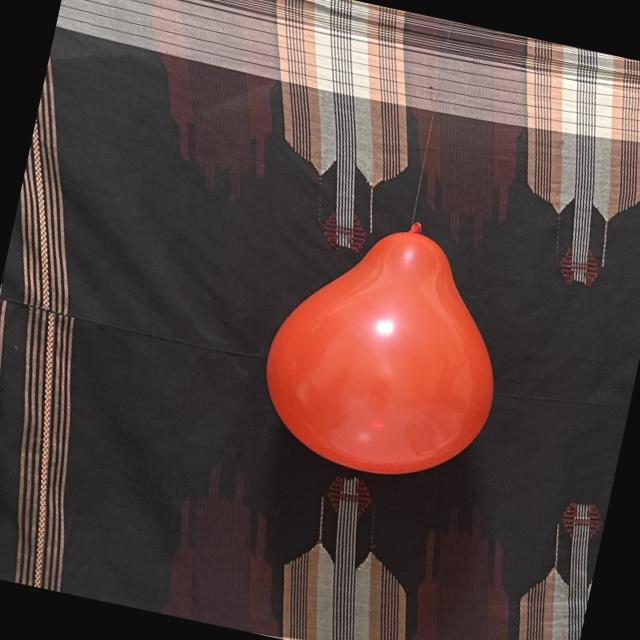balloon: (267, 225, 493, 473)
